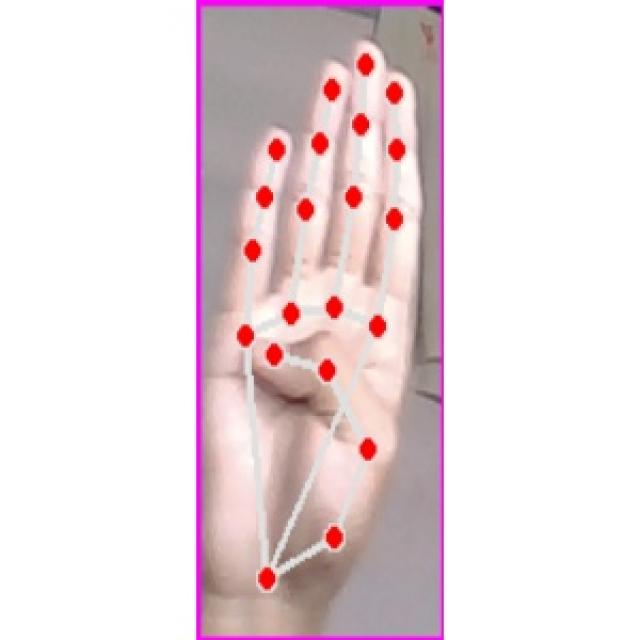B: (212, 32, 438, 612)
